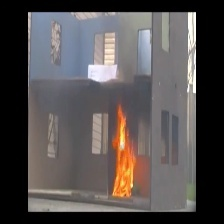fire: (112, 103, 137, 197)
